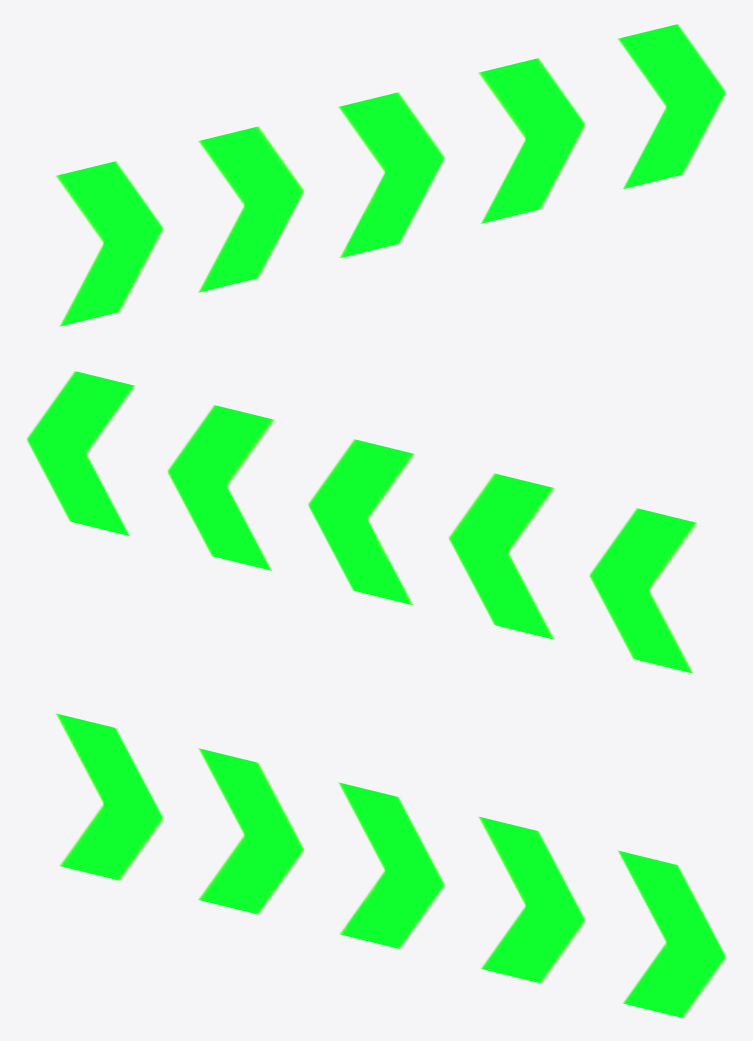
3 views of the same model, one above another, from view 1: azimuth 30°, elevation 25°; view 2: azimuth 150°, elevation 25°; view 3: azimuth 330°, elevation 25° (orthographic).
Visible parts, largest first — view 1: Emissive Arrow Sign_0_1; view 2: Emissive Arrow Sign_0_1; view 3: Emissive Arrow Sign_0_1.
Boxes of the visible parts, left/top/right/bottom form: Emissive Arrow Sign_0_1: left=55, top=24, right=725, bottom=326; Emissive Arrow Sign_0_1: left=27, top=371, right=697, bottom=673; Emissive Arrow Sign_0_1: left=56, top=713, right=725, bottom=1017.
Size of the model in its own units: 10 by 2 by 1.15e-06.
1 material, 1 textured.
